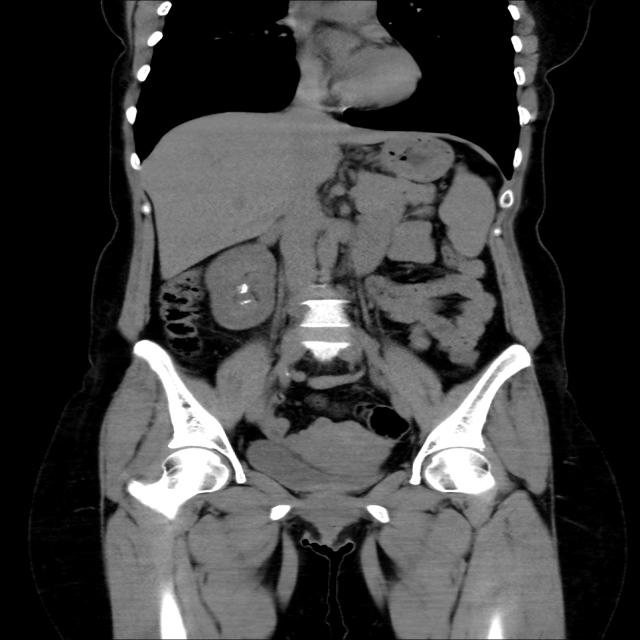kidneystone: (236, 284, 248, 294), (239, 299, 252, 305)
